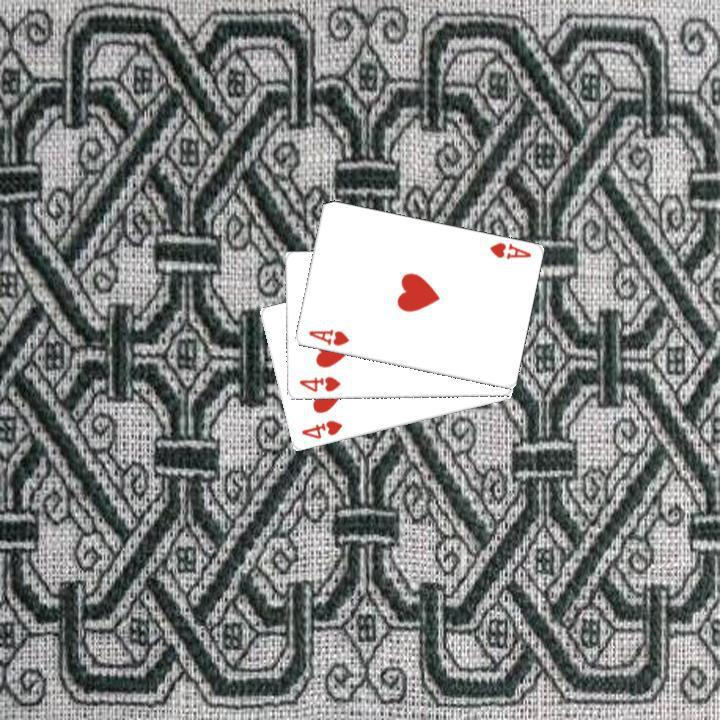4: (297, 416, 344, 442), (295, 372, 342, 394)
A: (485, 238, 533, 262), (304, 325, 351, 348)
